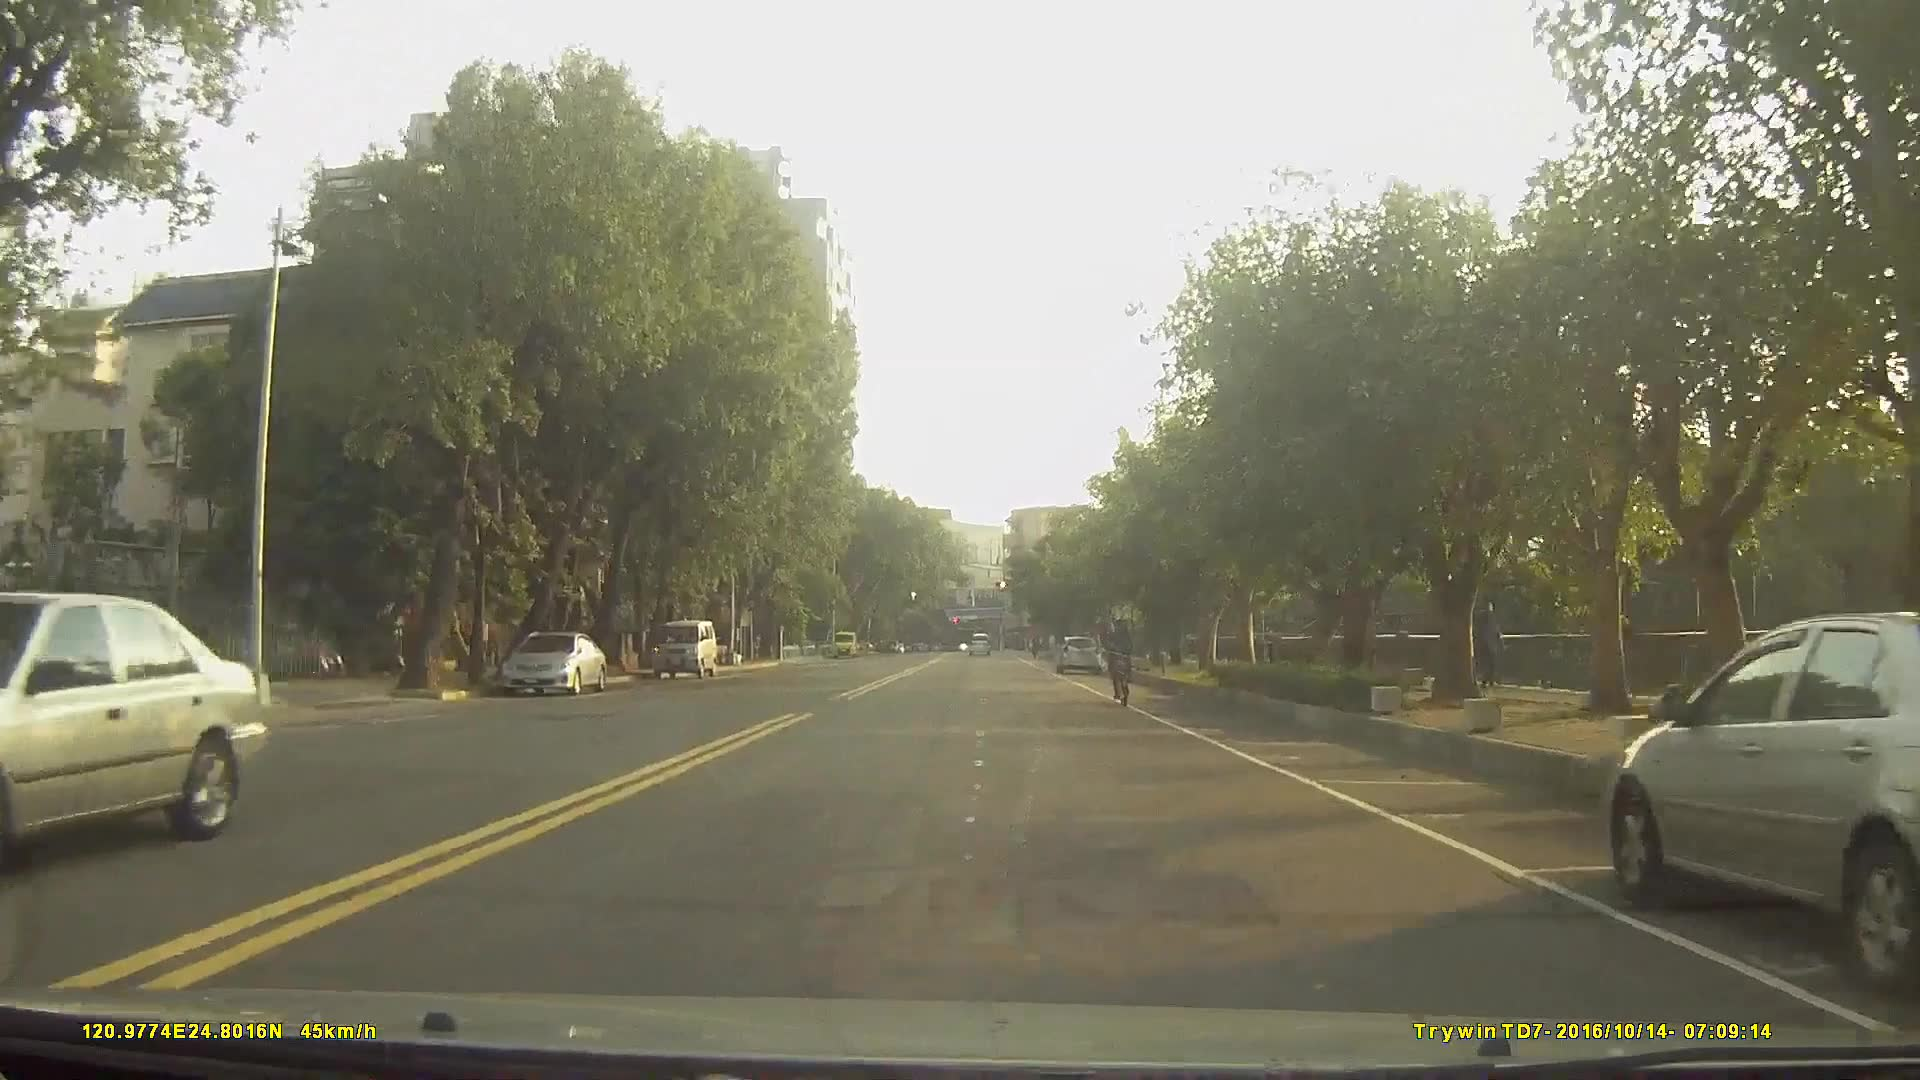rider: (1105, 613, 1137, 706)
vehicle: (1606, 609, 1918, 1000), (0, 590, 270, 861), (498, 630, 607, 698), (649, 616, 717, 680), (1053, 631, 1101, 671), (965, 627, 990, 653)
